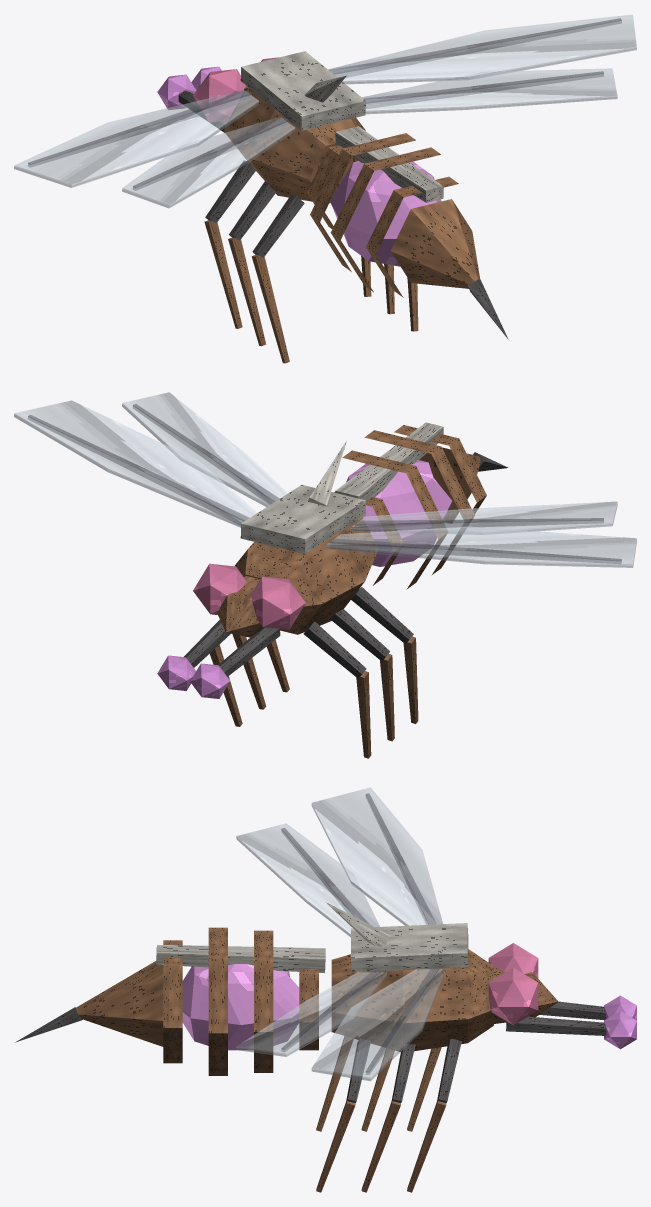
File: enemy_gnat.gltf
3 renders of one model, top to bottom at view 1: azimuth 30°, elevation 25°; view 2: azimuth 150°, elevation 25°; view 3: azimuth 270°, elevation 25°, orthographic. The views are drawn at different scales.
Parts seen in each view (by area): view 1: abdomen, thorax, wing_fr, wing_fl, wing_br, legs, wing_bl, core, emitters; view 2: thorax, wing_fr, abdomen, wing_fl, legs, wing_br, wing_bl, emitters, core, head; view 3: thorax, abdomen, wing_fl, wing_fr, legs, wing_bl, core, wing_br, emitters, head.
Part boxes in pixels (x1,y1,x2,y2): abdomen: (307,126,508,339); thorax: (223,51,365,203); wing_fr: (328,14,636,84); wing_fl: (14,90,259,187); wing_br: (362,68,617,114); legs: (204,160,418,363); wing_bl: (122,117,295,208); core: (330,161,441,266); emitters: (157,57,278,122); thorax: (234,440,378,634); wing_fr: (14,400,256,527); abdomen: (334,422,508,589); wing_fl: (325,526,636,567); legs: (209,587,418,758); wing_br: (122,392,287,506); wing_bl: (350,501,617,534); emitters: (157,563,305,698); core: (346,460,451,566); head: (184,576,280,676); thorax: (326,902,493,1051); abdomen: (15,927,325,1075); wing_fl: (311,787,442,925); wing_fr: (311,967,445,1081); legs: (316,1036,461,1192); wing_bl: (236,823,379,937); core: (182,964,299,1050); wing_br: (236,970,386,1056); emitters: (488,943,636,1049); head: (494,968,606,1035).
Bounding box in the file's own units: 1.06 × 0.4416 × 0.9605.
Materials: 10 (10 with a texture image).
